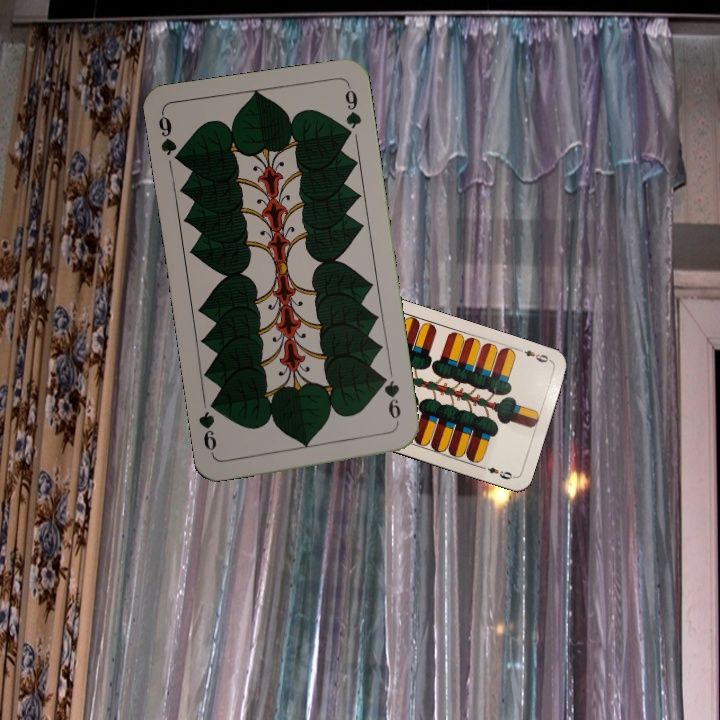E9: (514, 344, 553, 365)
G9: (154, 110, 185, 167), (377, 371, 404, 429)
